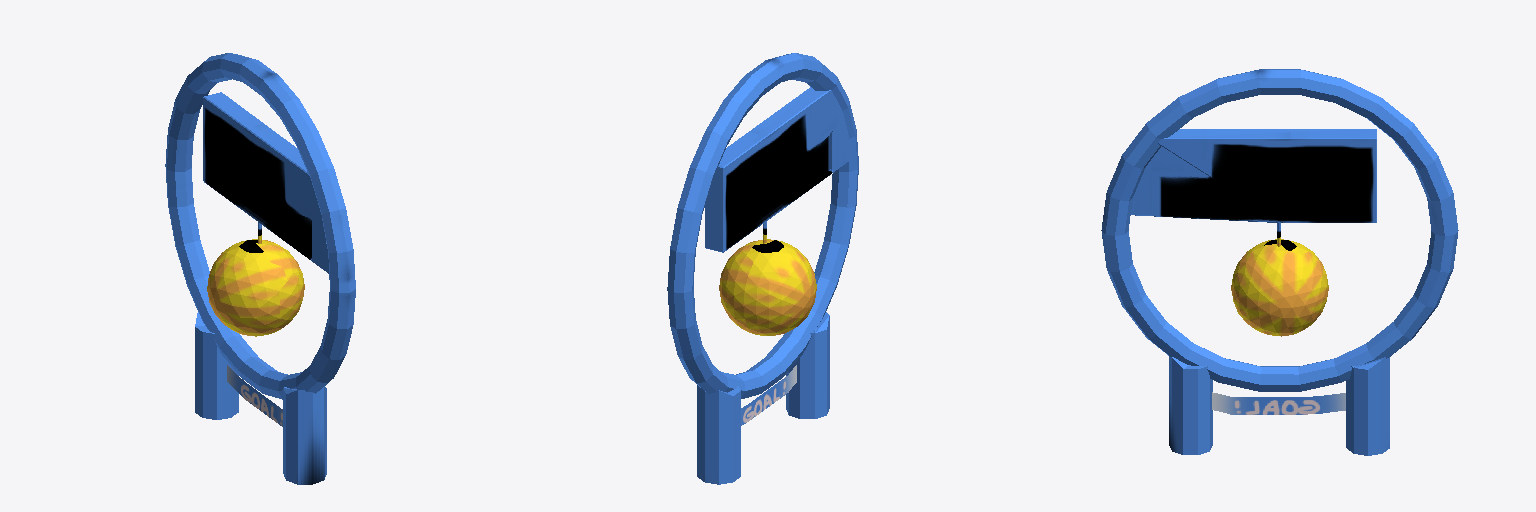
3 renders of one model, left to right at view 1: azimuth 30°, elevation 25°; view 2: azimuth 150°, elevation 25°; view 3: azimuth 270°, elevation 25°, orthographic.
Parts seen in each view (by area): view 1: Icosphere; view 2: Icosphere; view 3: Icosphere.
Part boxes in pixels (x1,y1,x2,y2): Icosphere: (165, 53, 355, 484); Icosphere: (667, 53, 858, 484); Icosphere: (1101, 69, 1458, 455).
Bounding box in the file's own units: 1.03 × 4.37 × 3.76.
Materials: 1 (1 with a texture image).